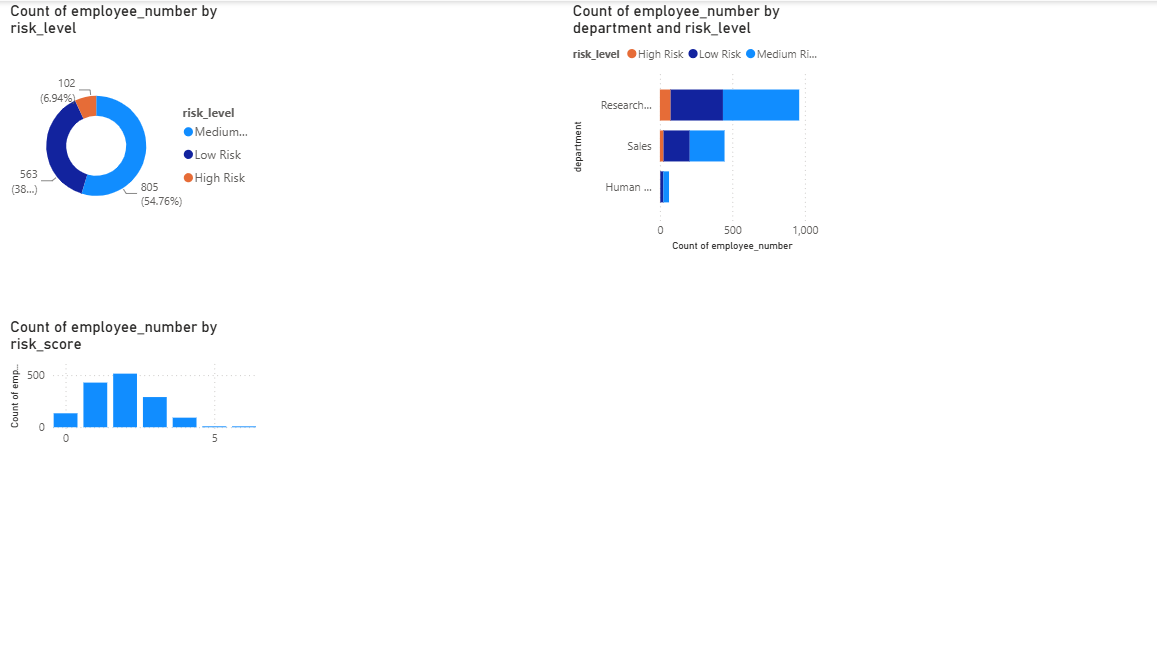

This screenshot's page, from the dashboard's own definition file:
{"tool":"powerbi","page":{"name":"At Risk Employees","canvas":[1280,720],"ordinal":2},"visuals":[{"type":"donutChart","fields":{"Category":["public vw_at_risk_employees.risk_level"],"Y":["CountNonNull(public vw_at_risk_employees.employee_number)"]},"box":[10,0,280,280],"z":0},{"type":"barChart","fields":{"Category":["public vw_at_risk_employees.department"],"Y":["CountNonNull(public vw_at_risk_employees.employee_number)"],"Series":["public vw_at_risk_employees.risk_level"]},"box":[627.1,0,279.9,279.9],"z":1000},{"type":"columnChart","fields":{"Category":["public vw_at_risk_employees.risk_score"],"Y":["CountNonNull(public vw_at_risk_employees.employee_number)"]},"box":[9.6,347.2,279.9,150.9],"z":2000}]}

Visuals, with their boxes in screenshot pixels (x1, y1, x2, y2), scaled from the page's 1280x720 canvas onto the 1157x652 screenshot:
donutChart - public vw_at_risk_employees.risk_level x CountNonNull(public vw_at_risk_employees.employee_number): region(9, 0, 262, 254)
barChart - public vw_at_risk_employees.department x CountNonNull(public vw_at_risk_employees.employee_number): region(567, 0, 820, 253)
columnChart - public vw_at_risk_employees.risk_score x CountNonNull(public vw_at_risk_employees.employee_number): region(9, 314, 262, 451)
